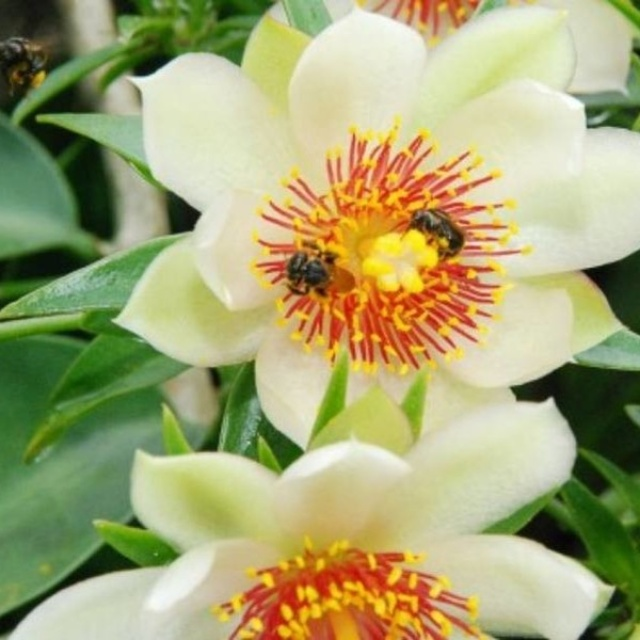obstacle: (99, 42, 571, 429), (49, 432, 615, 634)
